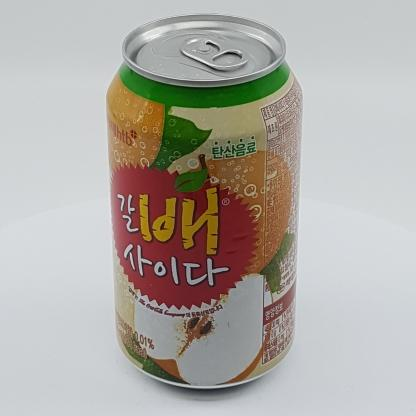-------355ML: (106, 13, 303, 390)
